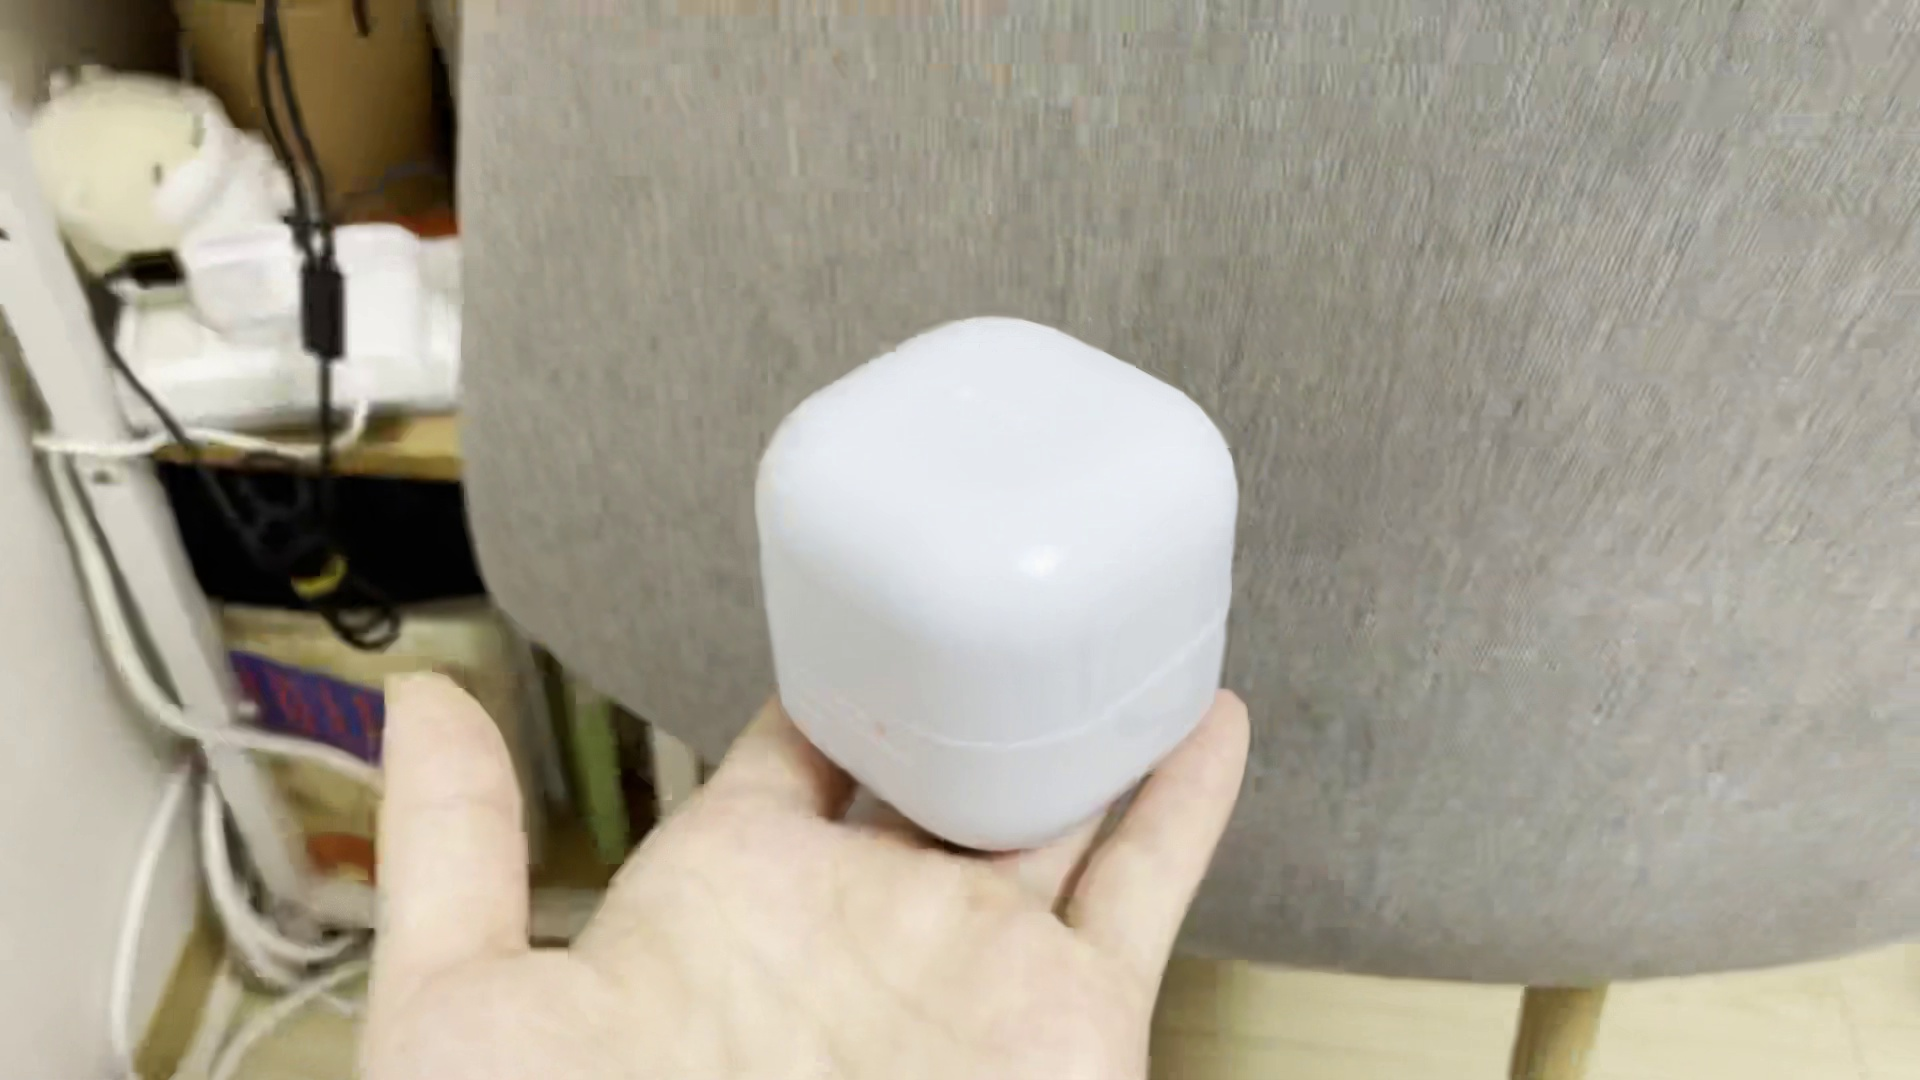cream: (752, 313, 1240, 855)
